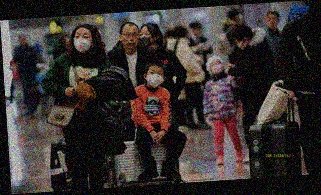with_mask: (72, 29, 93, 54), (145, 67, 163, 88), (139, 29, 154, 48), (211, 60, 225, 75), (235, 37, 249, 51)
without_mask: (122, 28, 139, 50), (266, 14, 279, 29)
